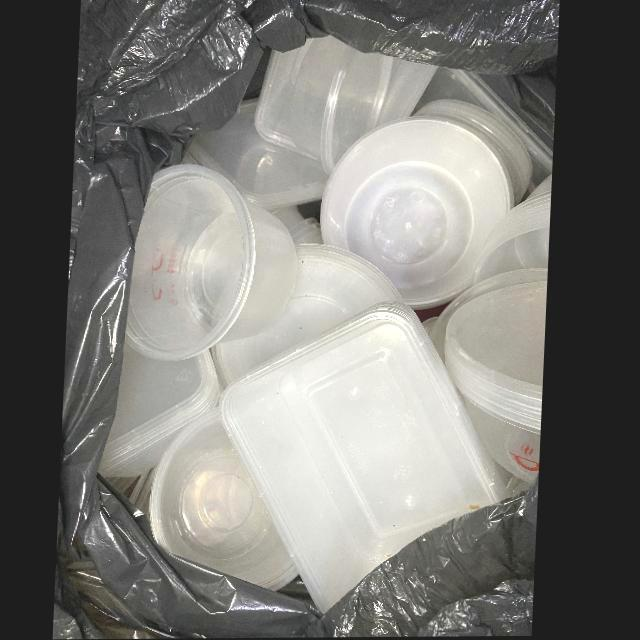plastic_container: (222, 303, 511, 615), (321, 119, 517, 312), (127, 164, 299, 362), (153, 408, 304, 593), (447, 281, 550, 485), (102, 344, 223, 478), (291, 36, 394, 176)
